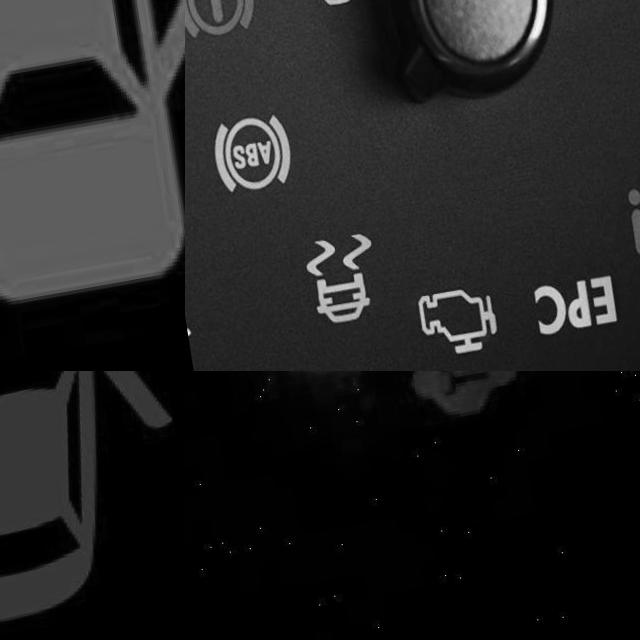Electronic Power Steering: (609, 190, 640, 282)
